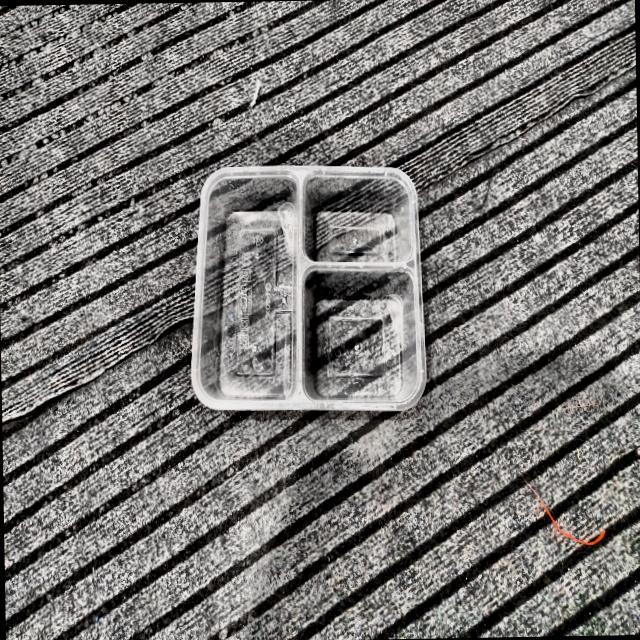plastic container: (191, 166, 426, 411)
